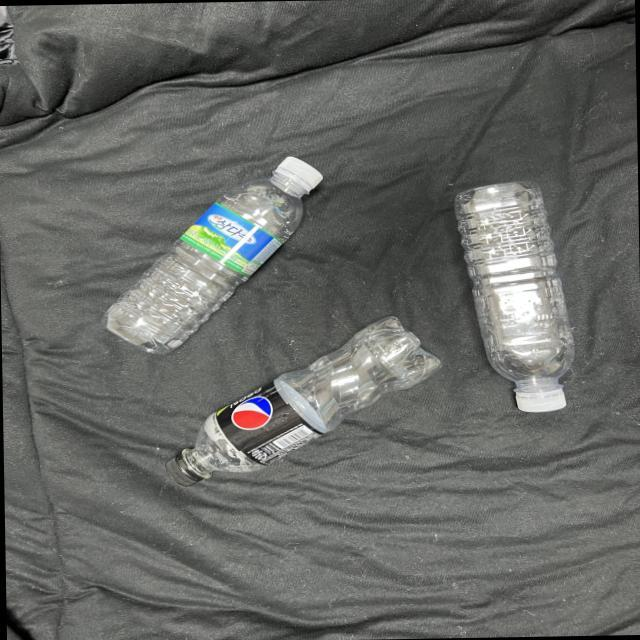good: (141, 301, 458, 511), (81, 139, 339, 371), (434, 166, 589, 424)
